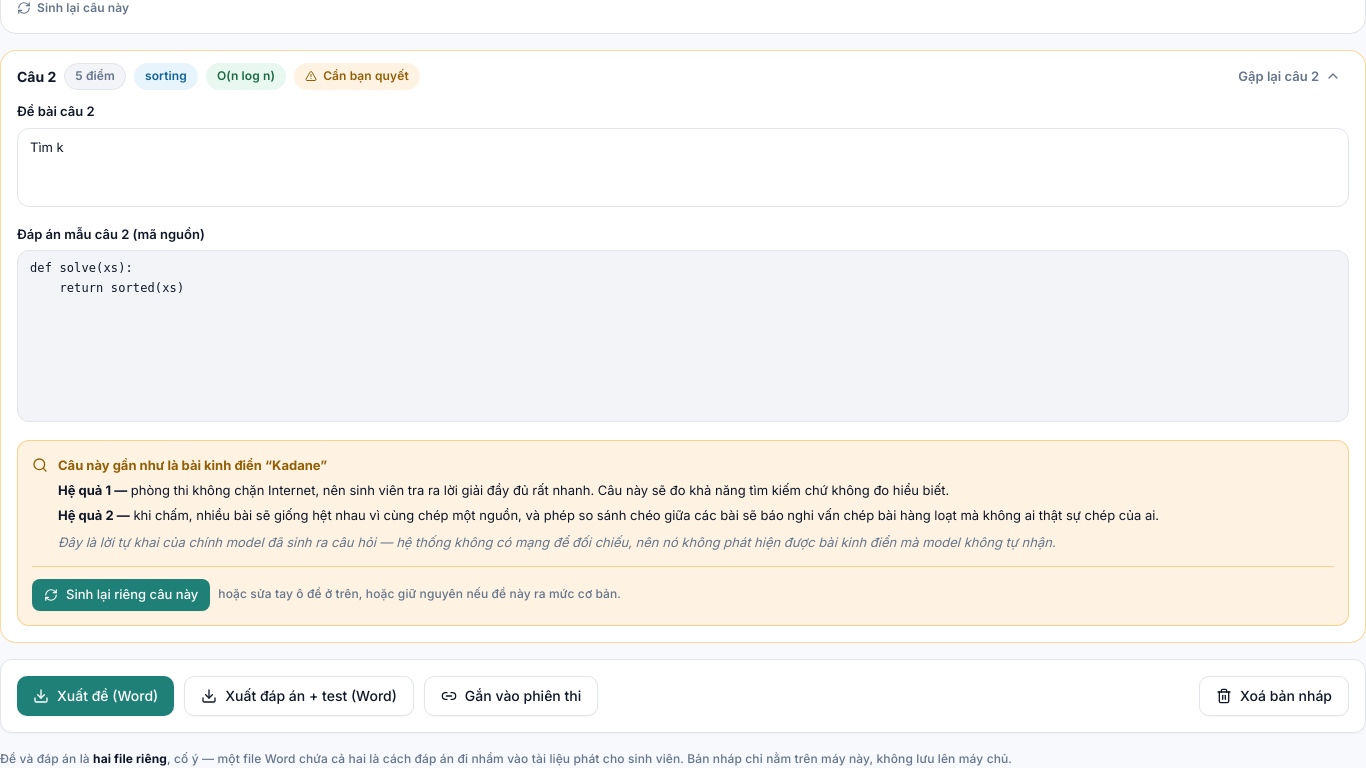
ExamAuthoringPage — gắn vào phiên thi › bộ ba unverified thì phải qua bước cảnh báo trước khi gắn
(page scrolled)
Expected: the text box showing "Tìm k" is shown, [17,128,1349,207]
Click the button "Gắn vào phiên thi" at (511, 696), box [424,676,598,716]
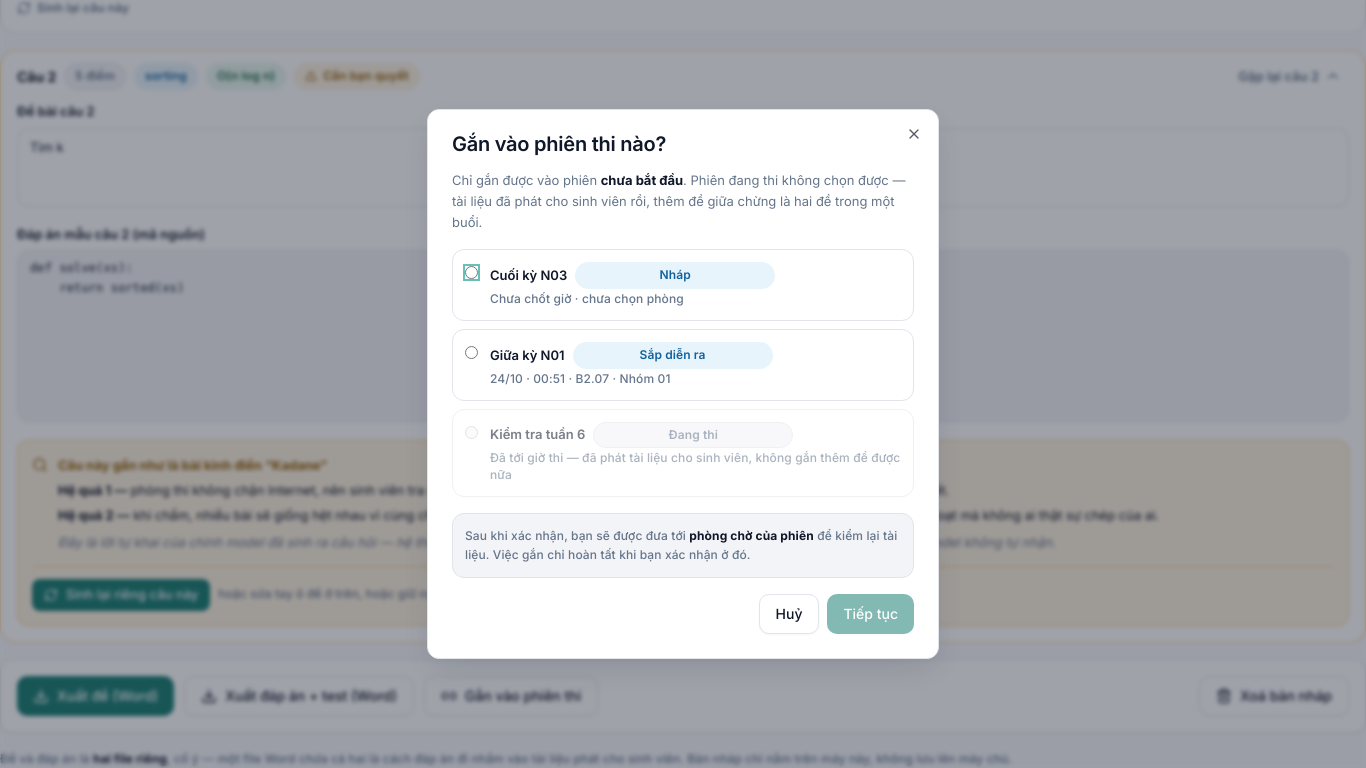
Click the radio button labelled "Giữa kỳ N01 Sắp diễn ra 24/10 · 00:51 · B2.07 · Nhóm 01" at (472, 352), box [465,346,478,359]
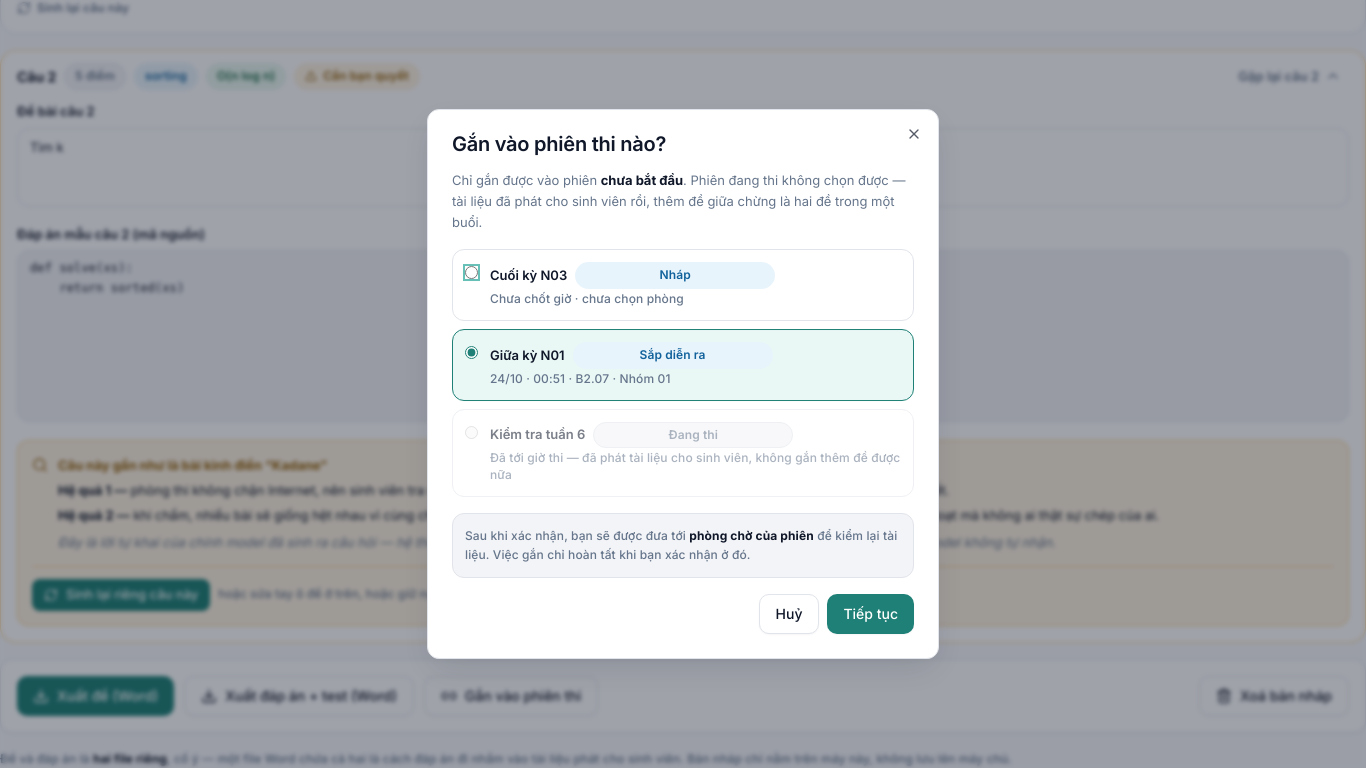
Click the button "Tiếp tục" at (871, 614), box [828,594,914,634]
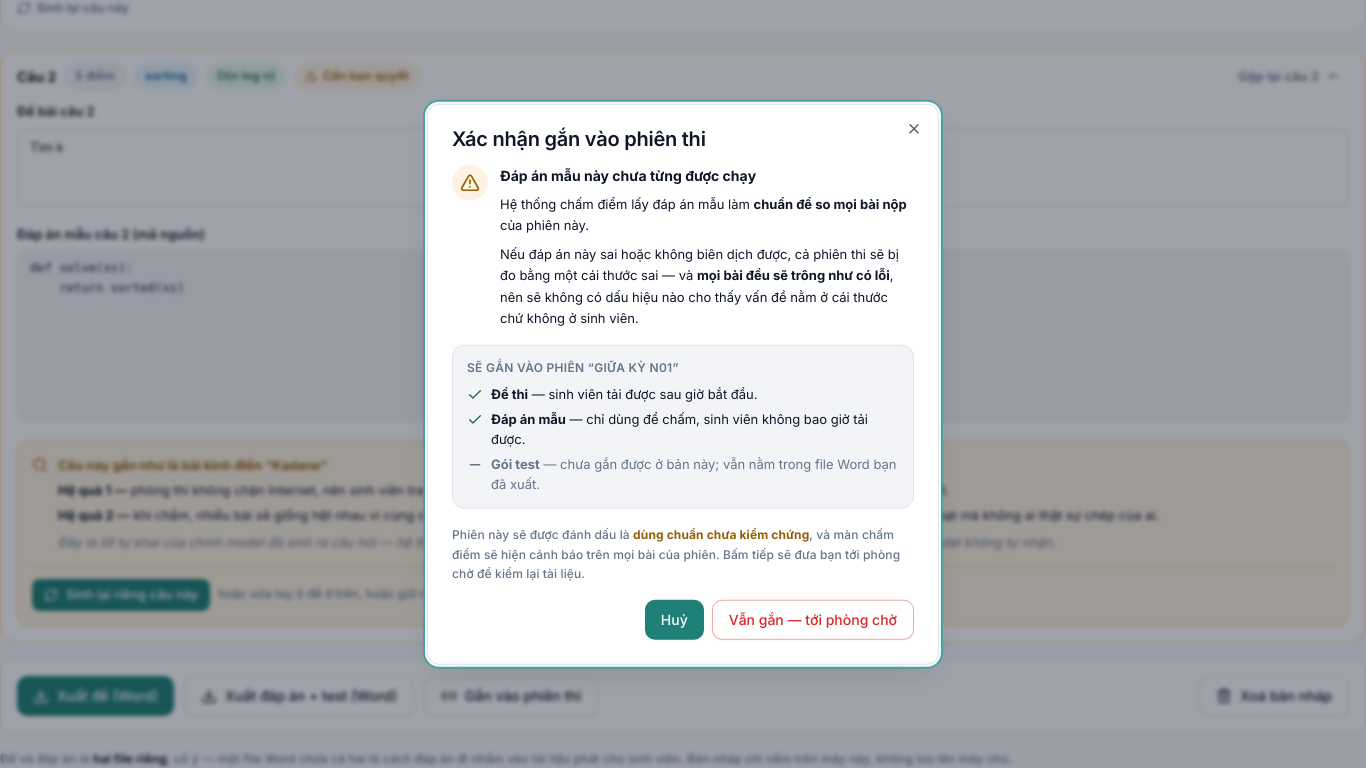
Now the text "Đáp án mẫu này chưa từng được chạy" is shown, box [500,167,756,184]
